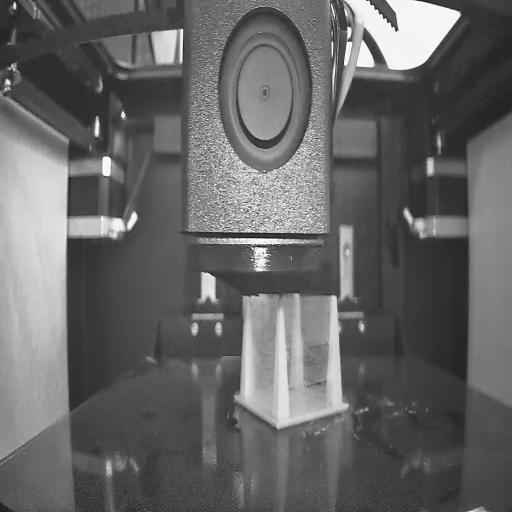stringing: (286, 294, 332, 420), (246, 293, 274, 418)
